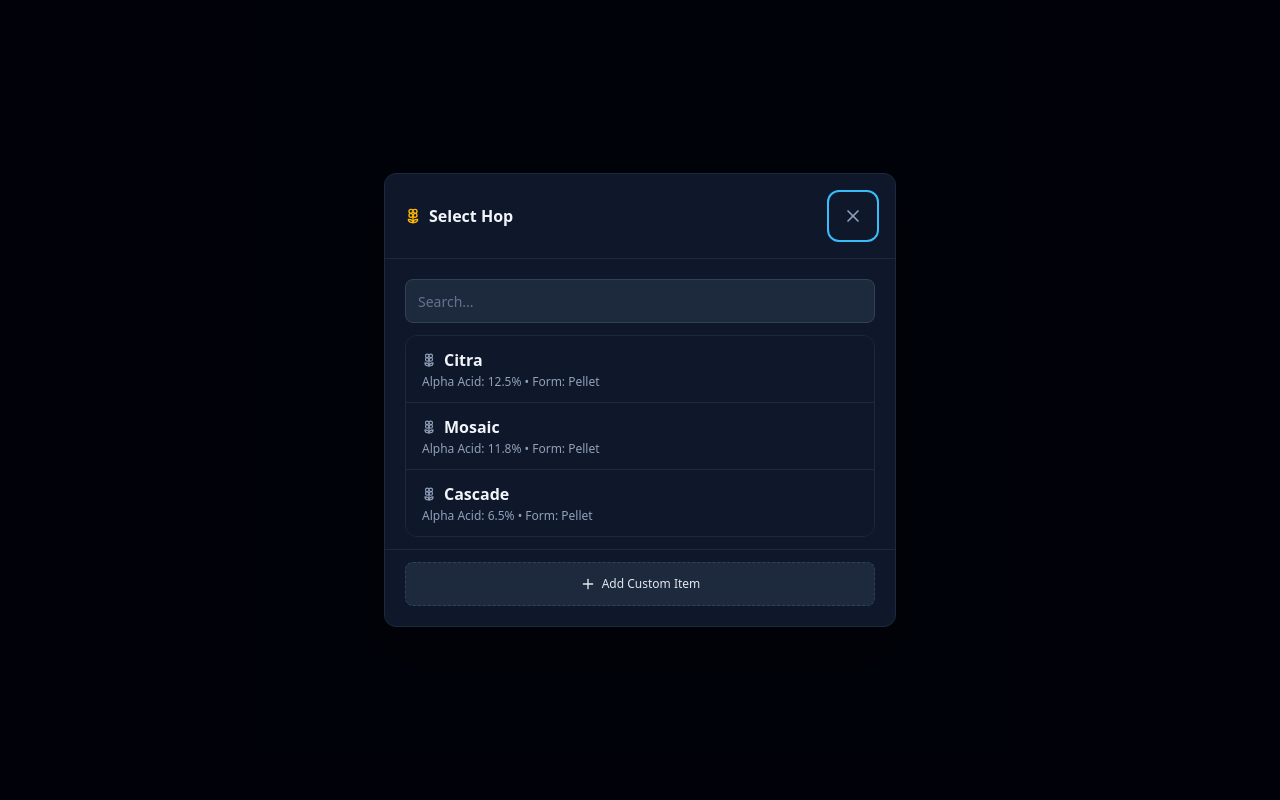
PresetPickerModal (M12_P1, spec §3.2) › AC-6: typing "citra" in the hop picker filters results to Citra preset only
Type "citra" into the field with test id "preset-picker-search".
click(640, 301); type("citra")  # box [405,279,875,323]
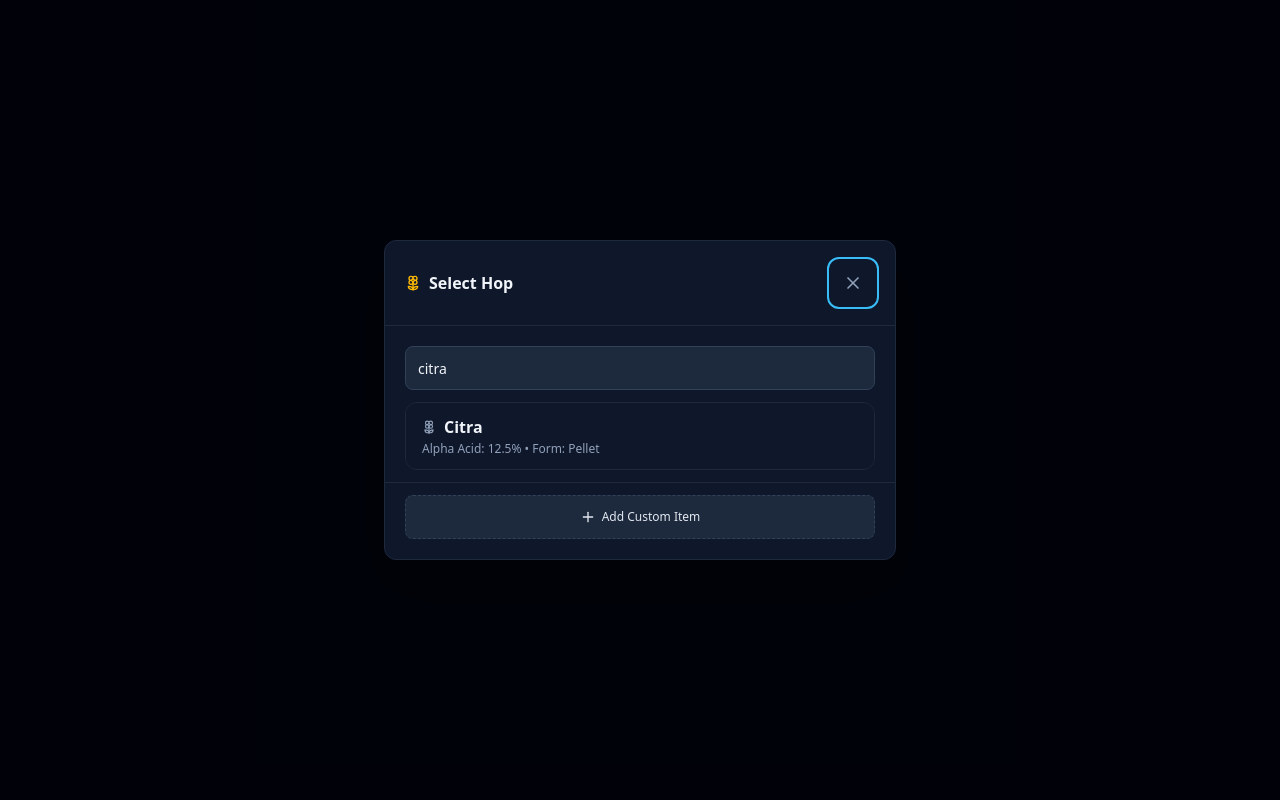
Expected: the button with test id "preset-item-cat-h-1" is shown, [406,403,874,469]
Expected: the button with test id "preset-item-cat-h-2" is gone
Expected: the button with test id "preset-item-cat-h-3" is gone
